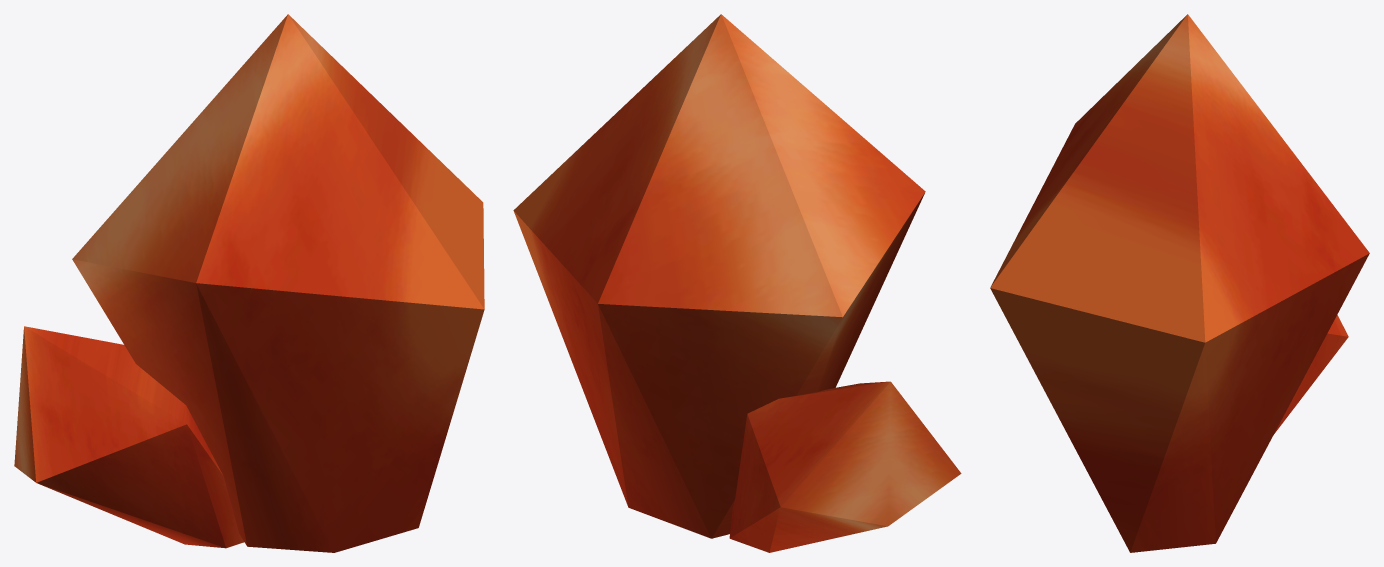
Rendered from CopperOre.fbx.
3 renders of one model, left to right at view 1: azimuth 30°, elevation 25°; view 2: azimuth 150°, elevation 25°; view 3: azimuth 270°, elevation 25°, orthographic. The views are drawn at different scales.
Parts seen in each view (by area): view 1: Rock; view 2: Rock; view 3: Rock.
Boxes of the visible parts, x1,y1,x2,y2 form: Rock: (14,14,484,552); Rock: (513,14,961,552); Rock: (990,14,1369,552).
Size of the model in its own units: 1.01 by 1.09 by 0.7656.
